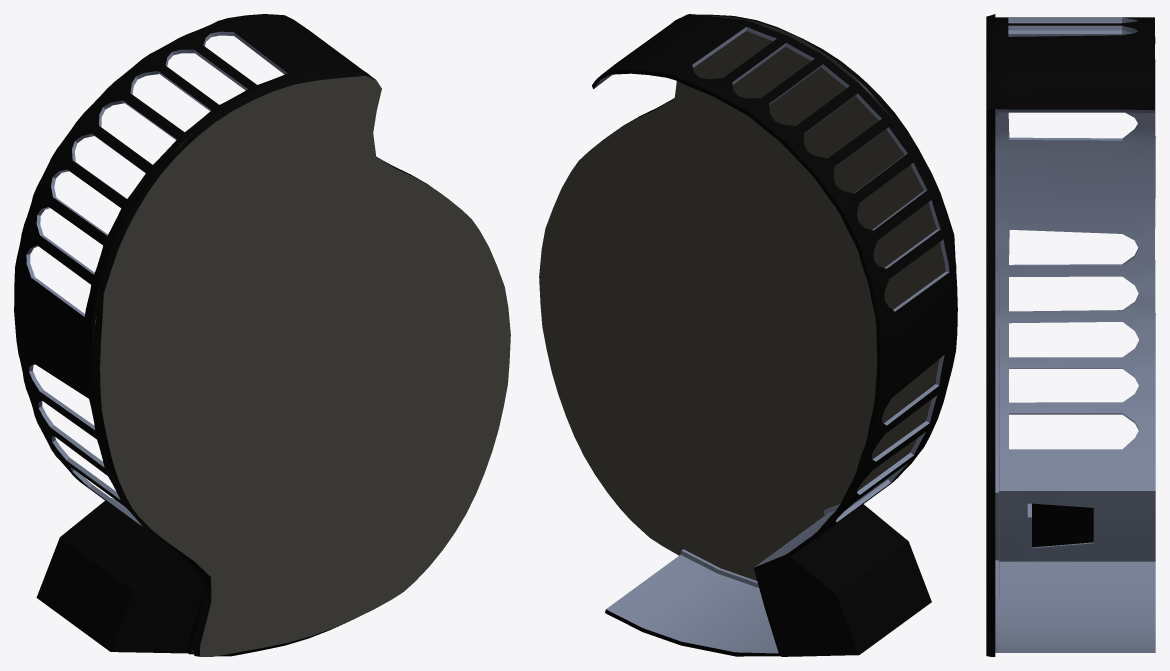
The model's file is resturant_body (1).fbx.
The picture shows the model from 3 angles, left to right: view 1: azimuth 30°, elevation 25°; view 2: azimuth 150°, elevation 25°; view 3: azimuth 270°, elevation 25°; orthographic projection. The views are drawn at different scales.
Visible parts, largest first — view 1: Cube.002; view 2: Cube.002; view 3: Cube.002.
Boxes of the visible parts, <box> form: Cube.002: <box>14,14,510,656</box>; Cube.002: <box>539,14,957,656</box>; Cube.002: <box>986,14,1155,656</box>.
Bounding box in the file's own units: 579 × 753 × 194.
